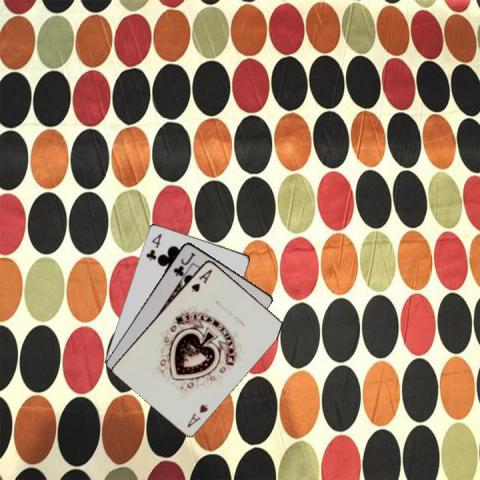4c: (142, 230, 162, 261)
As: (188, 266, 213, 294), (184, 400, 209, 428)
Jc: (170, 249, 196, 277)
